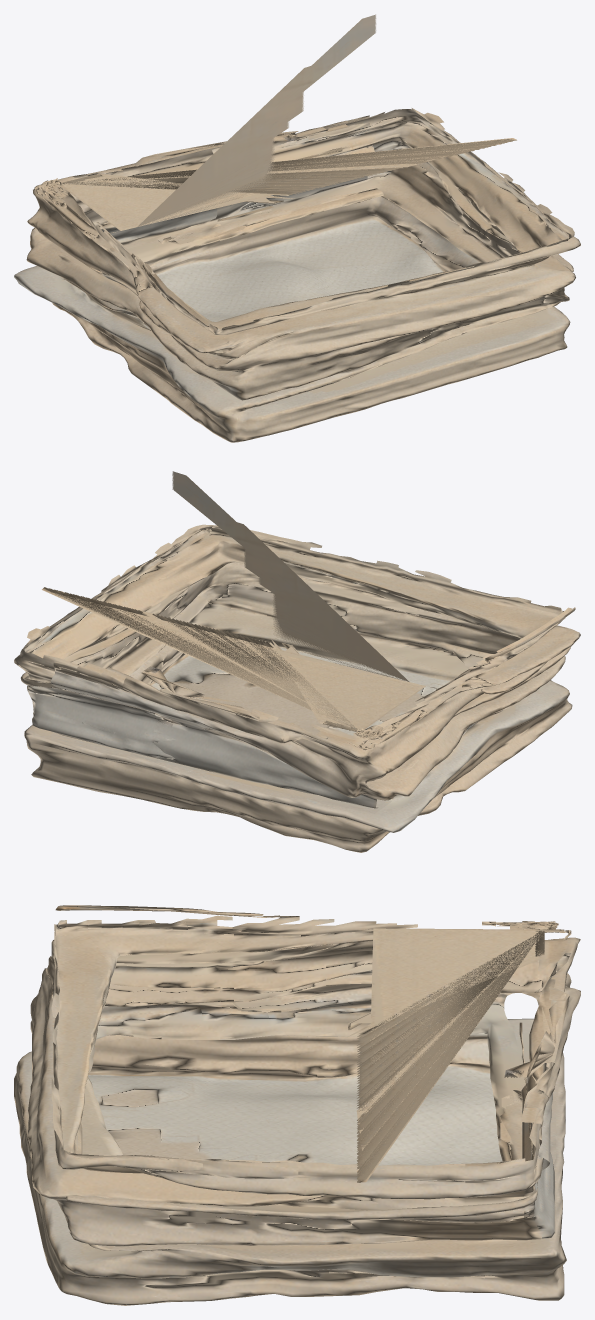
File: MedicalRecordStack.fbx
3 views of the same model, one above another, from view 1: azimuth 30°, elevation 25°; view 2: azimuth 150°, elevation 25°; view 3: azimuth 270°, elevation 25° (orthographic). The views are drawn at different scales.
Visible parts, largest first — view 1: mesh_node; view 2: mesh_node; view 3: mesh_node.
Part boxes in pixels (x1=…): mesh_node: x1=14, y1=14, x2=580, y2=442; mesh_node: x1=14, y1=471, x2=580, y2=852; mesh_node: x1=14, y1=905, x2=580, y2=1305.
Bounding box in the file's own units: 187 × 114 × 159.
Materials: 1 (1 with a texture image).
